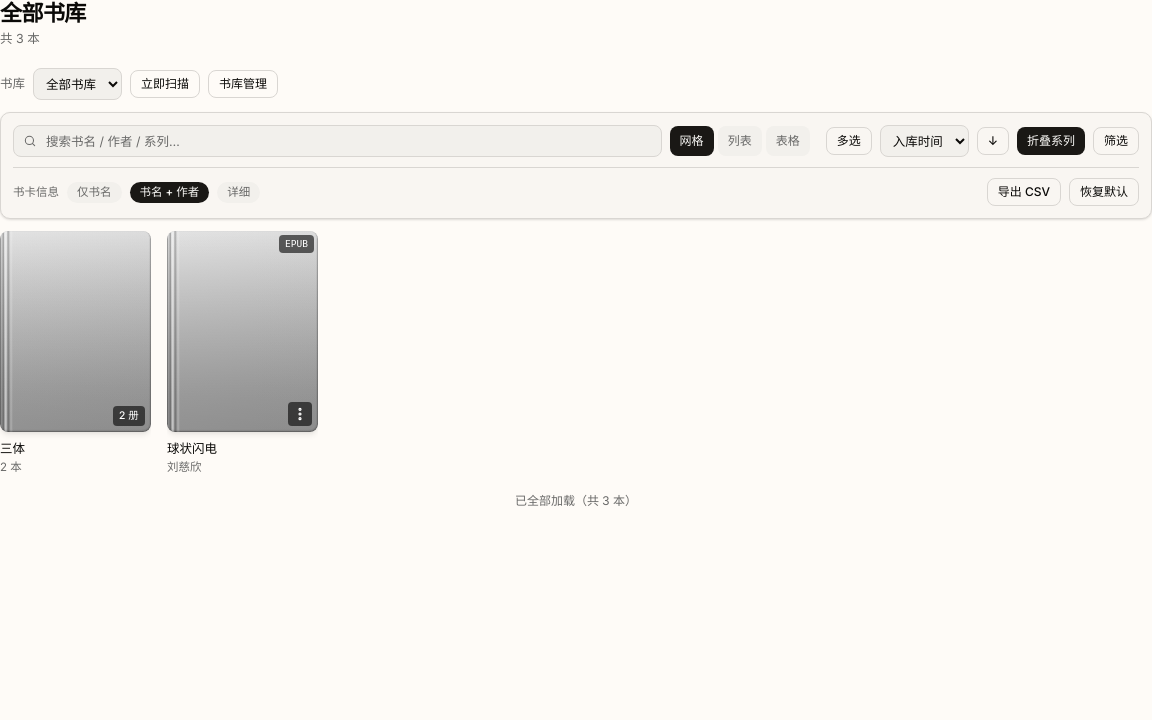
Test case: ShelfView：⋮ 与快速预览的接线 › 点 ⋮ 里的「快速预览」打开浮层，浮层里是这本书
Step 1. Click the button named "更多操作：球状闪电" → (300, 414), box x1=288 y1=402 x2=312 y2=426
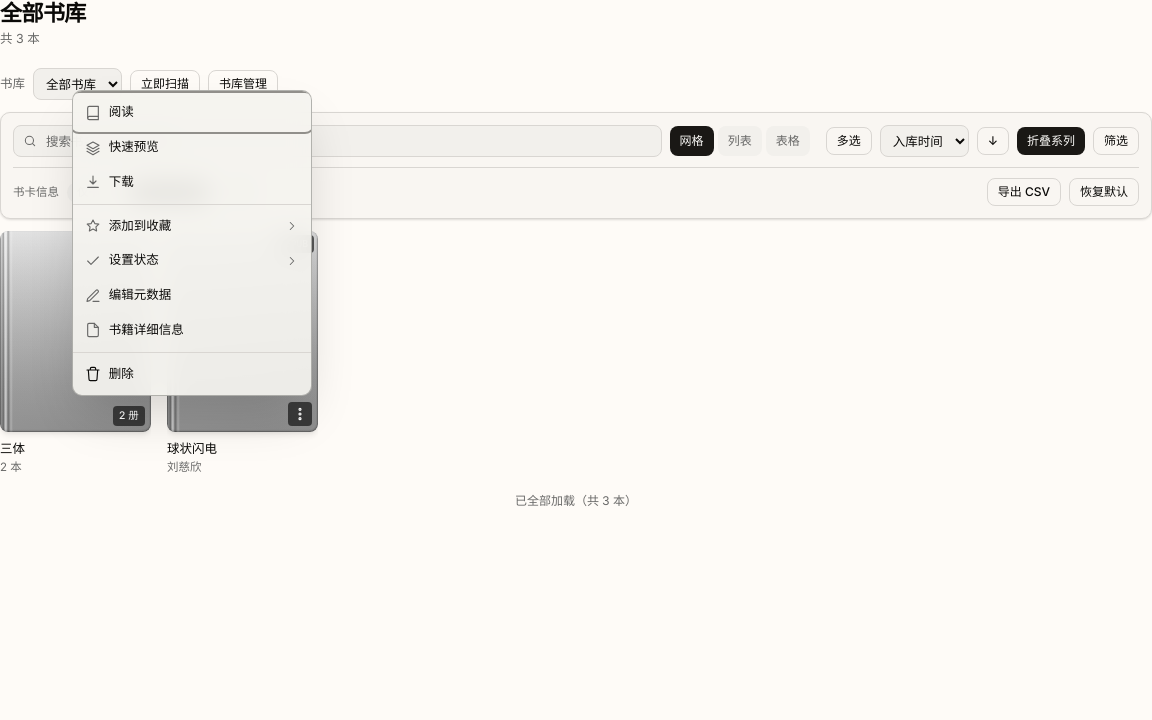
Now the menu is shown, box x1=72 y1=90 x2=312 y2=396
Step 2. Click the menu item "快速预览" → (192, 148), box x1=73 y1=130 x2=311 y2=165
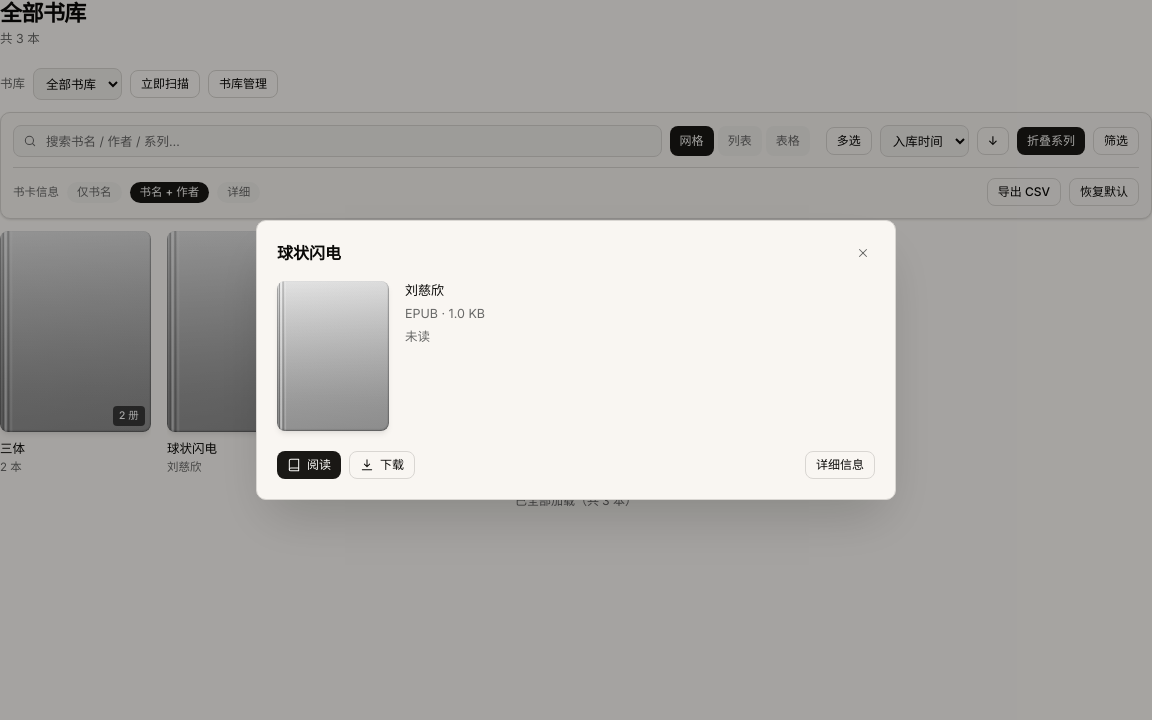
Now the dialog is shown
Now the dialog shows "球状闪电", box x1=277 y1=243 x2=341 y2=263
